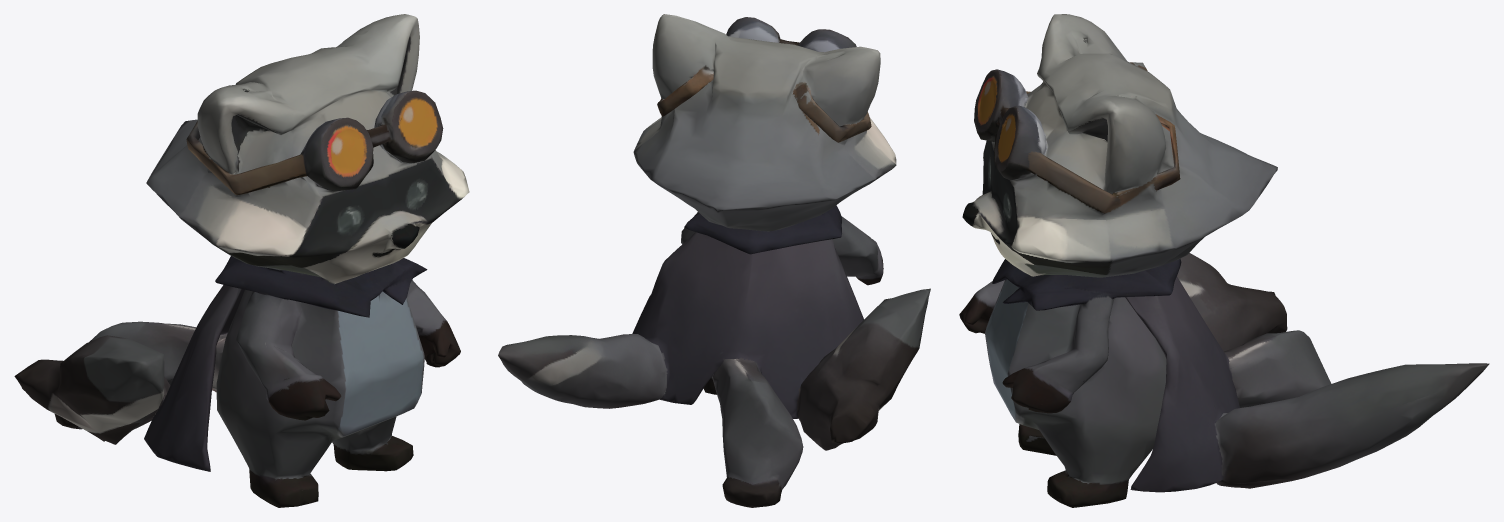
The model's file is junkcoon-web.glb.
3 renders of one model, left to right at view 1: azimuth 30°, elevation 25°; view 2: azimuth 150°, elevation 25°; view 3: azimuth 270°, elevation 25°, orthographic. The views are drawn at different scales.
Bounding box in the file's own units: 0.7277 × 0.878 × 0.991.
1 material, 1 textured.
